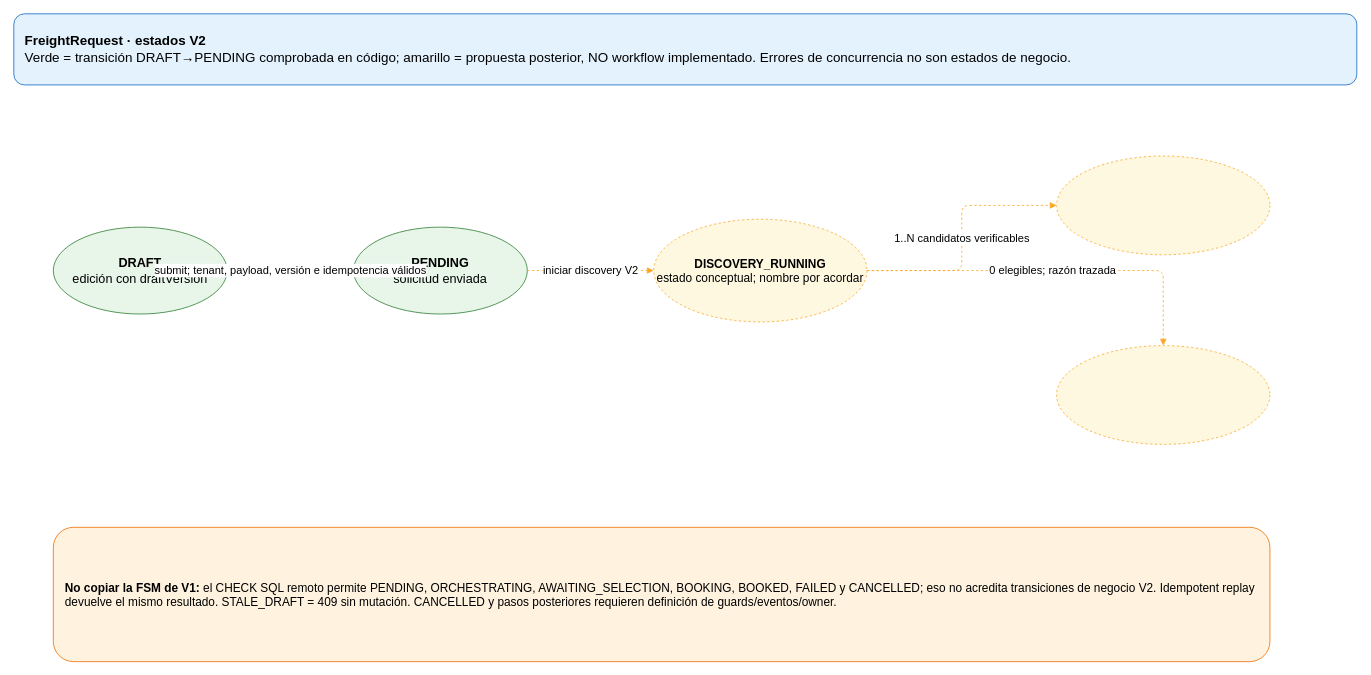
Some shapes in this 1371 by 675 pixel diagram are drawn without their labels. The shapes that lost their labels are listed below. From the top down, each one's centre as x and y in pixels, then its label:
(1163,205): OPTIONS_READY candidatos ≠ ofertas
(1163,394): NO_CANDIDATES motivos + unknown visibles
